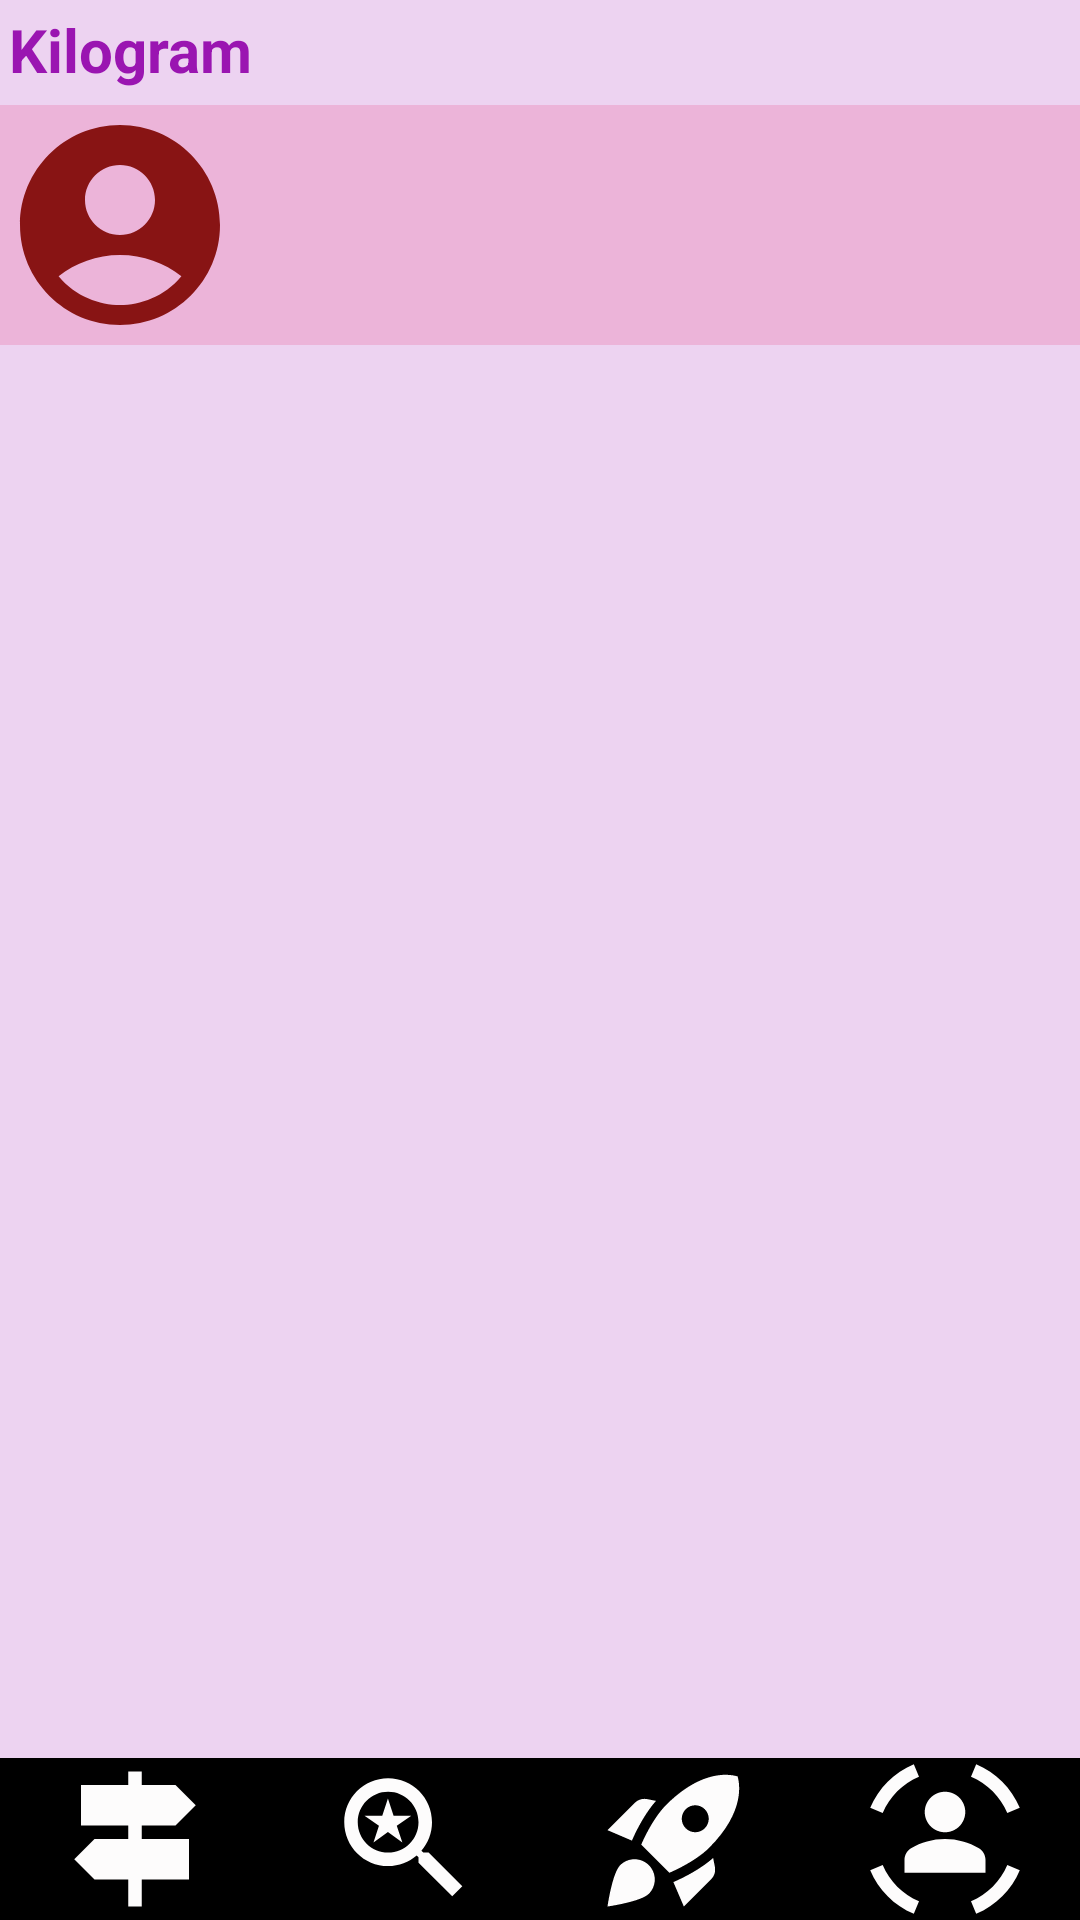

Screen size 1080px×1920px. Icon name, then its box in pixels as (x1, y1, x2, y2):
profileactivity: (870, 1764, 1020, 1914)
profilepic: (20, 125, 220, 325)
searchactivity: (344, 1778, 462, 1896)
